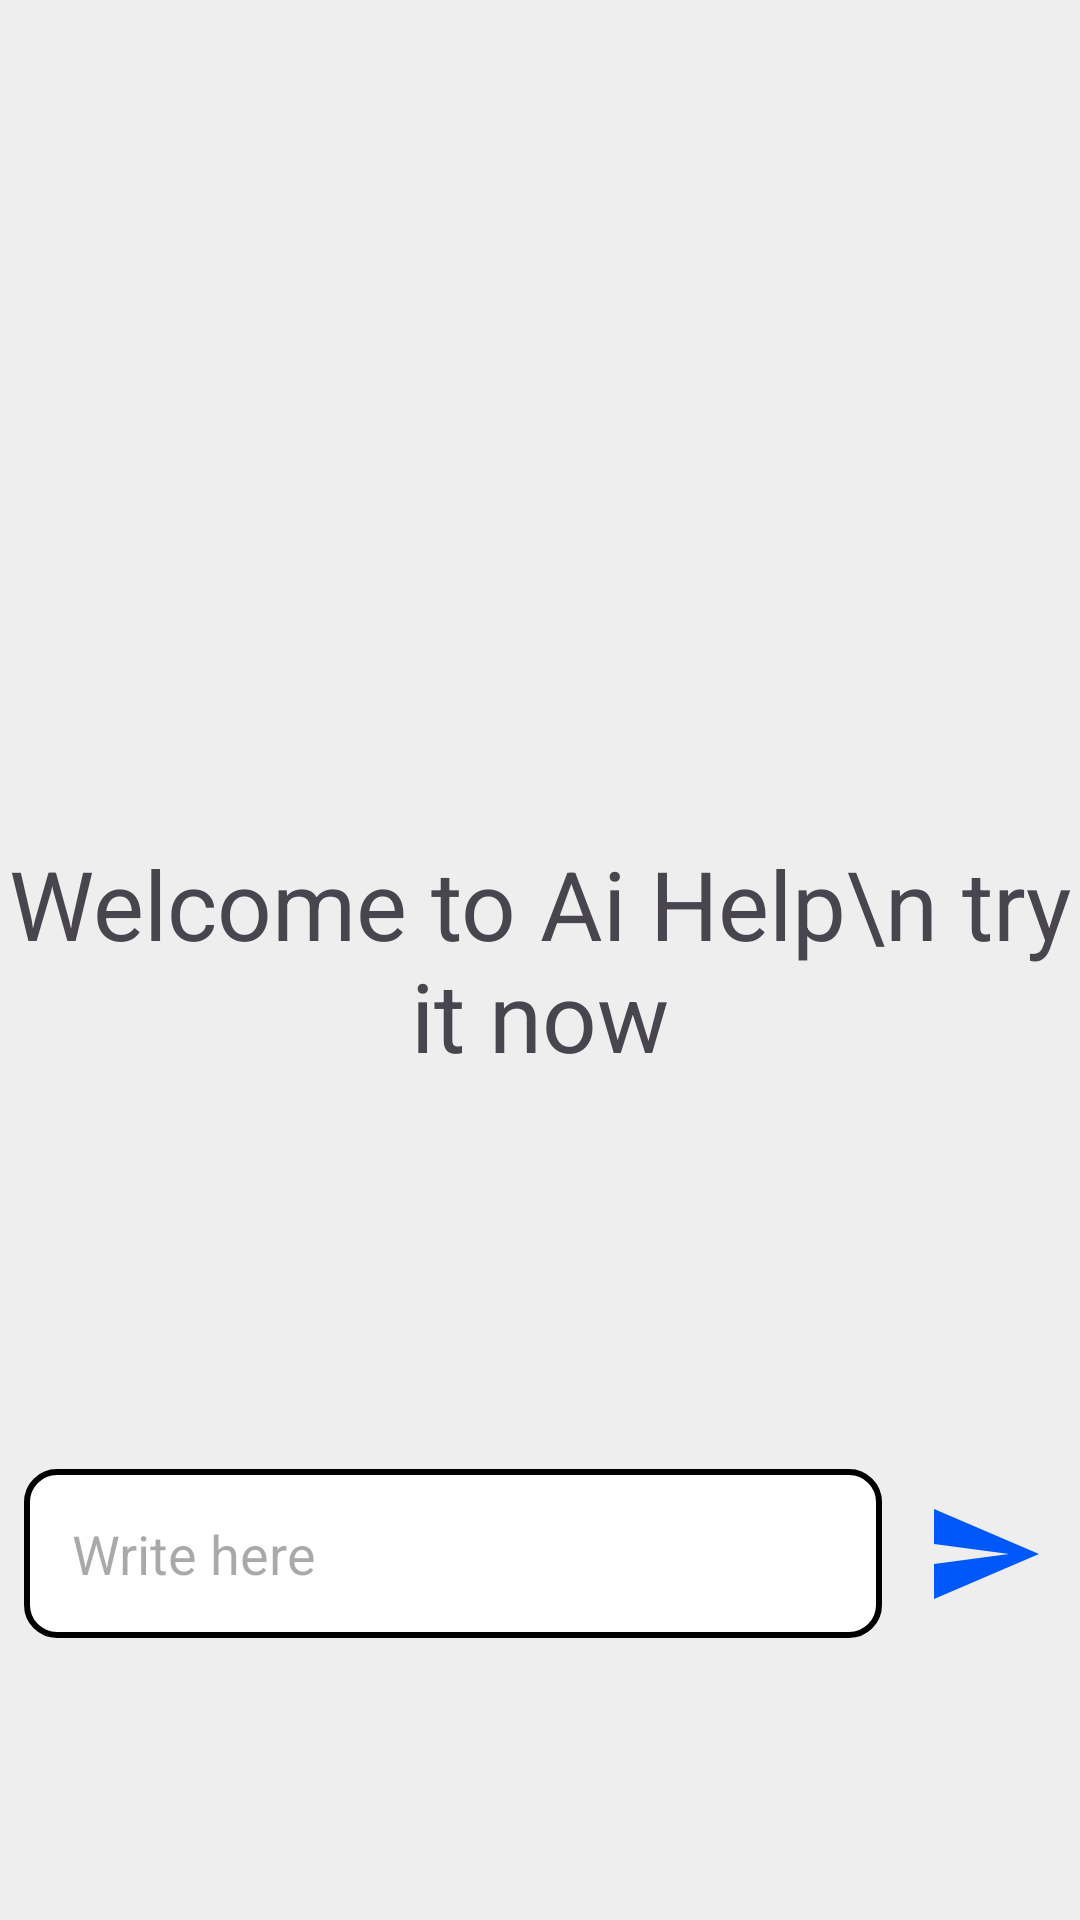

Icons on this 1080×1920 Android screen, each with the point to tap as point (x, y):
send: point (986, 1554)
